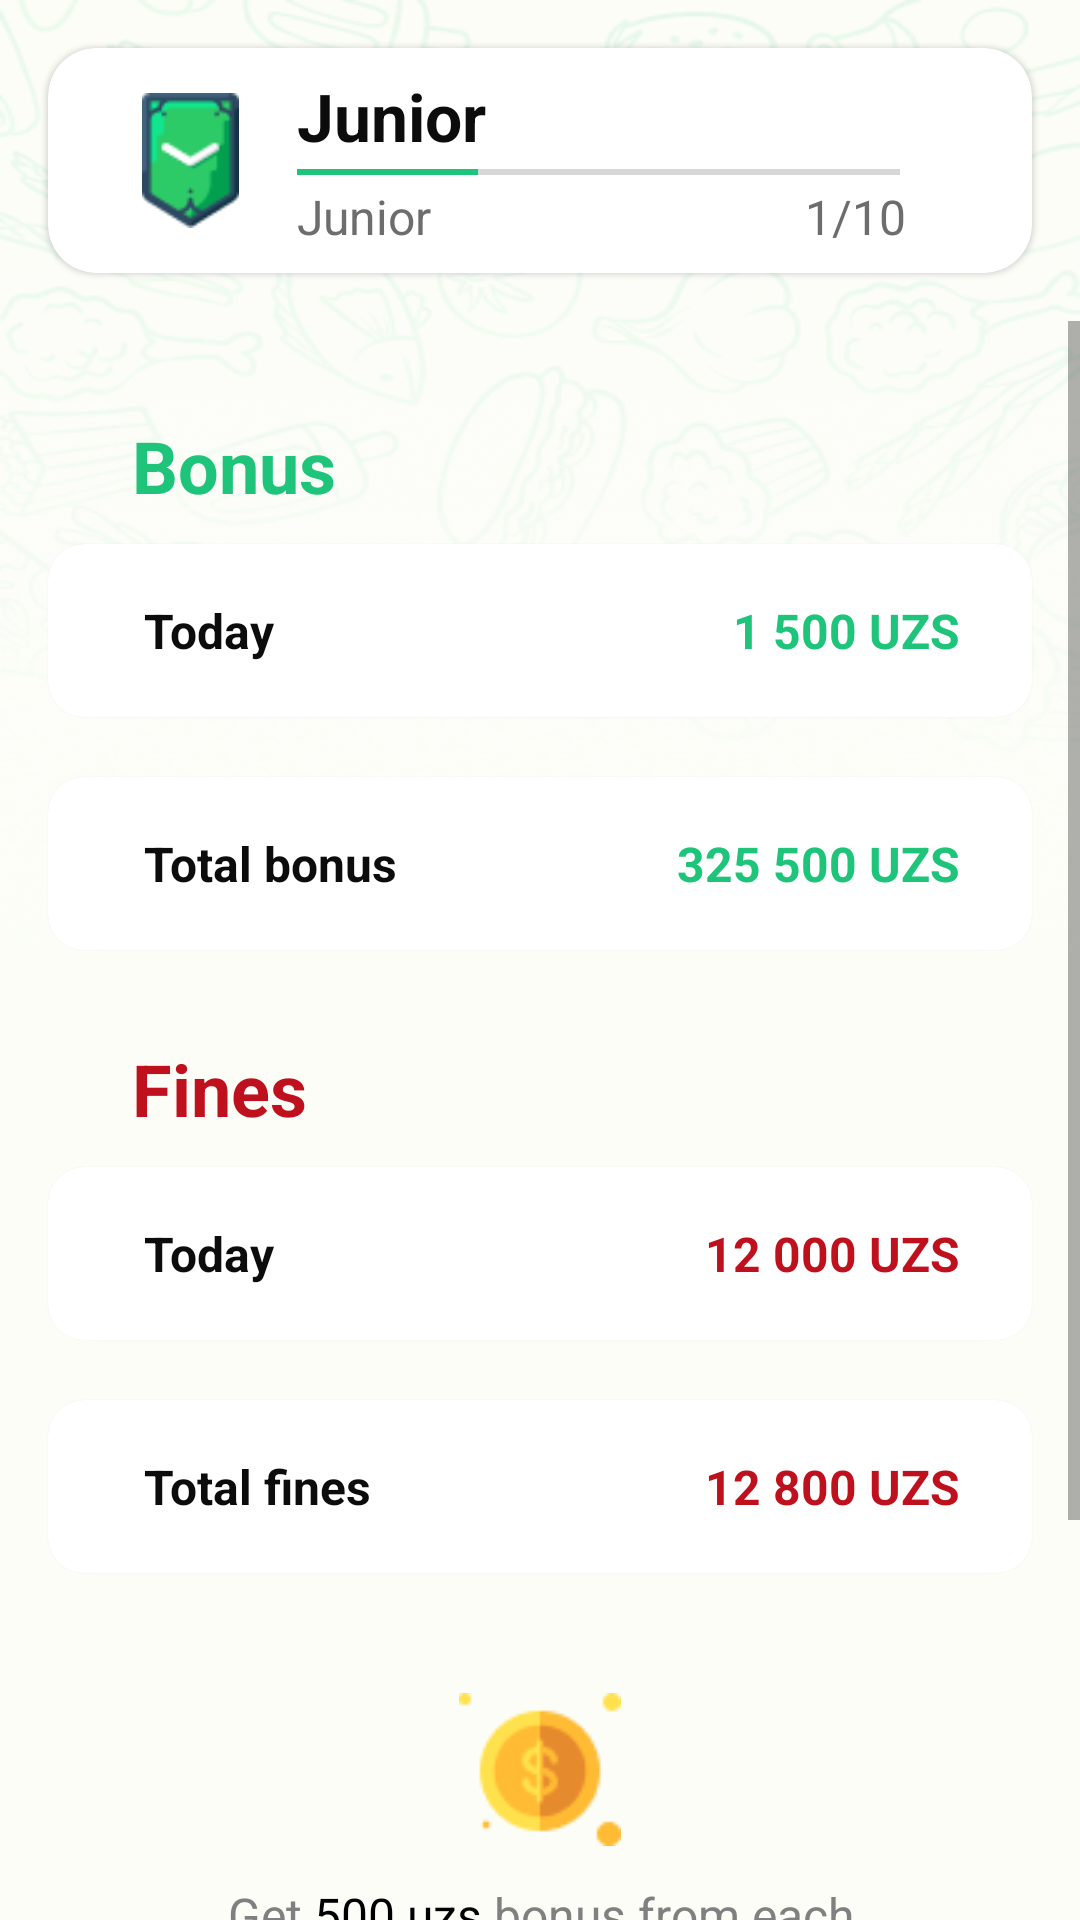

Where to tap for icons on this 1080px×1920px app screen, as point (x, y):
chevron: point (190, 160)
money: point (540, 1769)
